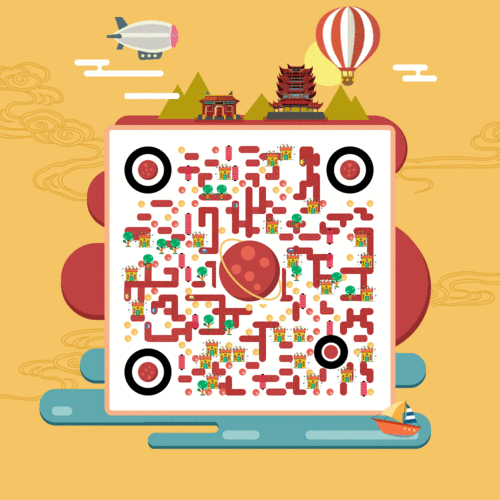QRCode: (116, 140, 387, 408)
